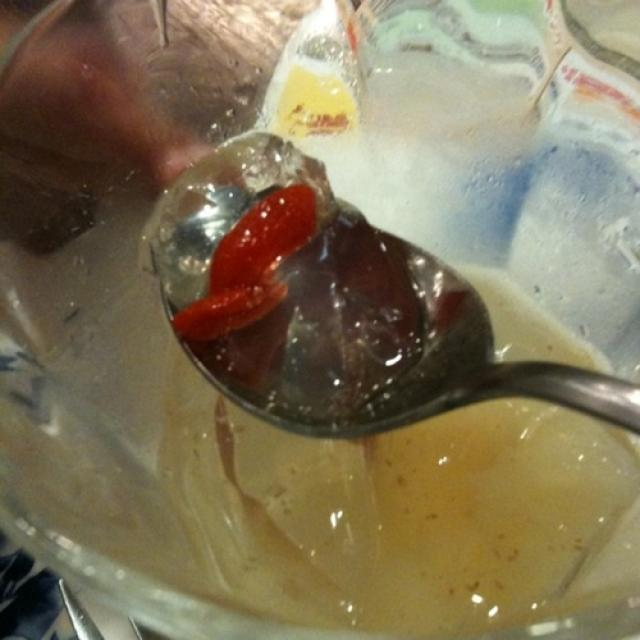蛋糕甜品: (37, 42, 623, 616)
